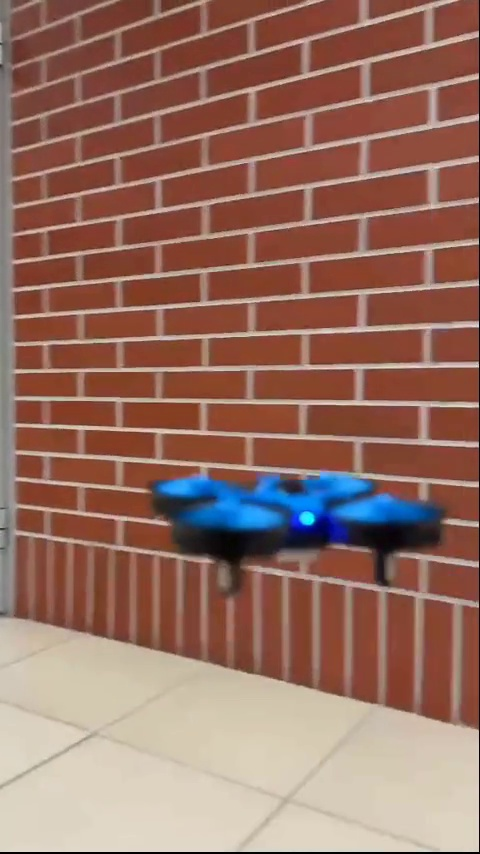drone: (152, 463, 450, 601)
